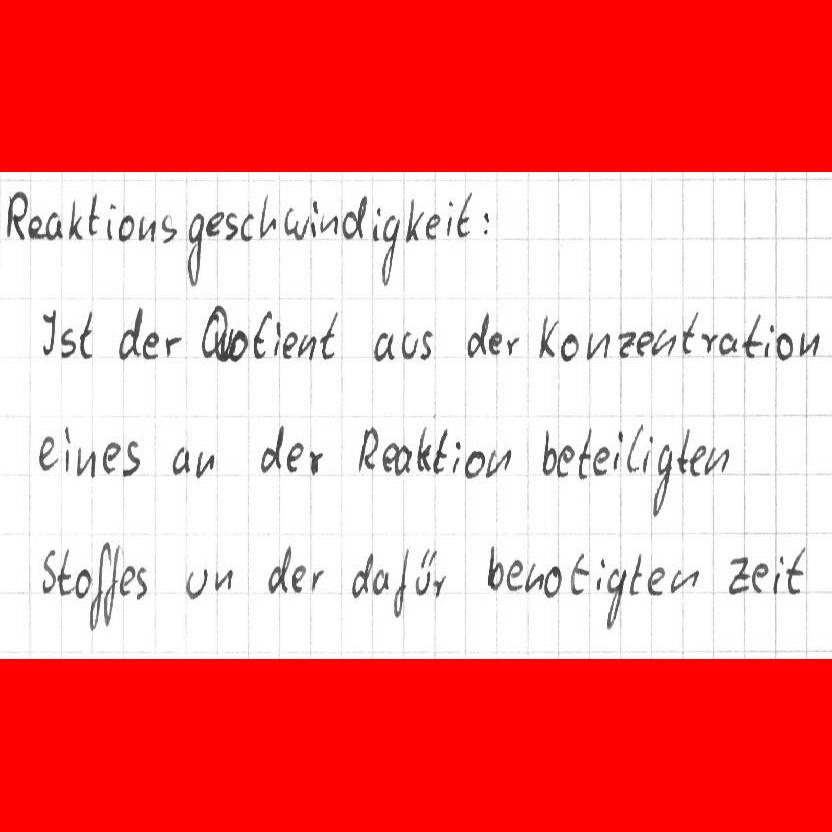Char: (88, 540, 111, 631), (100, 542, 122, 628), (650, 443, 671, 519), (199, 303, 226, 360), (185, 211, 205, 287), (116, 305, 142, 361), (258, 421, 284, 477), (381, 213, 400, 287), (392, 549, 412, 619), (266, 542, 292, 595), (605, 567, 626, 631), (356, 424, 379, 474), (5, 189, 27, 241), (465, 309, 488, 358), (725, 552, 751, 595), (350, 550, 373, 598), (319, 308, 339, 362), (344, 194, 366, 240), (252, 309, 272, 359), (415, 546, 435, 596), (785, 548, 806, 595), (743, 310, 763, 358), (537, 313, 557, 361), (257, 192, 277, 239), (585, 327, 611, 362), (456, 190, 474, 240), (77, 308, 94, 360), (626, 424, 643, 476), (485, 543, 503, 592), (568, 551, 588, 595), (373, 328, 397, 364), (485, 445, 511, 478), (539, 428, 556, 478), (38, 307, 55, 357), (576, 425, 591, 481), (184, 566, 207, 602), (405, 197, 423, 243), (414, 426, 431, 474), (432, 424, 448, 475), (680, 310, 698, 355), (37, 433, 57, 473), (284, 208, 309, 240), (38, 547, 55, 594), (705, 444, 729, 477), (670, 567, 699, 594), (121, 437, 141, 476), (676, 426, 691, 478), (57, 547, 73, 595), (796, 329, 821, 359), (226, 326, 246, 363), (74, 444, 95, 479), (651, 328, 676, 357), (66, 199, 83, 240), (463, 448, 483, 481), (629, 552, 644, 596), (392, 443, 412, 476), (284, 441, 303, 475), (557, 441, 574, 479), (172, 444, 192, 476), (751, 560, 769, 595), (688, 443, 706, 478), (101, 438, 118, 475), (544, 565, 563, 598), (399, 328, 418, 361), (524, 562, 543, 595), (505, 556, 522, 592), (559, 331, 578, 363), (141, 330, 161, 360), (593, 444, 611, 477), (118, 562, 132, 604), (298, 332, 318, 361), (195, 448, 215, 477), (88, 192, 100, 240), (133, 564, 149, 599), (212, 566, 232, 594), (59, 327, 76, 359), (420, 328, 436, 362), (160, 214, 178, 244), (618, 329, 636, 359), (640, 433, 653, 474), (647, 567, 666, 595), (635, 330, 654, 358), (73, 566, 90, 597), (289, 563, 306, 594), (719, 331, 739, 357), (772, 554, 785, 594), (25, 214, 45, 240), (373, 567, 390, 597), (776, 332, 794, 360), (162, 332, 182, 357), (612, 429, 623, 474), (307, 447, 324, 476), (319, 213, 340, 236), (381, 442, 396, 474), (137, 216, 156, 241), (62, 426, 72, 473), (281, 329, 296, 360), (104, 202, 116, 240), (46, 212, 62, 240), (206, 212, 223, 238), (763, 326, 776, 360), (240, 213, 255, 242), (451, 438, 463, 474), (424, 213, 441, 238), (223, 212, 238, 240), (701, 330, 717, 355), (309, 199, 319, 239), (503, 333, 520, 356), (431, 575, 447, 599), (119, 216, 134, 241), (310, 567, 325, 592), (488, 331, 502, 357), (445, 198, 454, 238), (480, 206, 492, 235), (372, 204, 381, 242), (272, 319, 281, 357), (596, 557, 605, 591)
